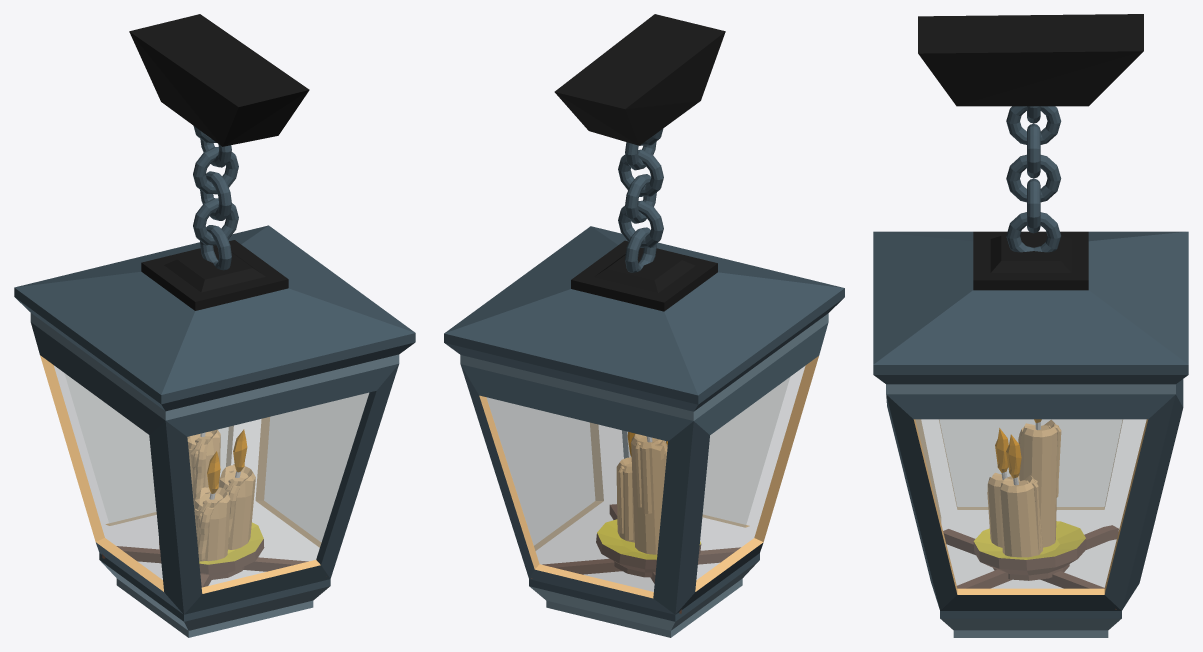
Rendered from Candle Lantern.glb.
3 renders of one model, left to right at view 1: azimuth 30°, elevation 25°; view 2: azimuth 150°, elevation 25°; view 3: azimuth 270°, elevation 25°, orthographic. The views are drawn at different scales.
Parts seen in each view (by area): view 1: group142796565, group820950536, group1893448725, group1803883772, group304027375, group1535184523, group666346096, group1505957573, group1912993665, group394345910, group368409847, group20059742; view 2: group142796565, group820950536, group1893448725, group20059742, group1535184523, group2023262785, group1505957573, group1912993665, group394345910, group368409847, group1803883772, group454493926 (+1 smaller); view 3: group142796565, group820950536, group1893448725, group1535184523, group20059742, group1803883772, group368409847, group394345910, group1417286851, group666346096, group2023262785, group304027375 (+3 smaller).
Part boxes in pixels (bbox=[...]): group142796565: bbox=[14, 225, 415, 637]; group820950536: bbox=[129, 14, 309, 146]; group1893448725: bbox=[141, 240, 288, 310]; group1803883772: bbox=[219, 465, 255, 549]; group304027375: bbox=[194, 487, 230, 561]; group1535184523: bbox=[159, 522, 264, 579]; group666346096: bbox=[102, 546, 326, 576]; group1505957573: bbox=[193, 198, 238, 245]; group1912993665: bbox=[193, 147, 238, 194]; group394345910: bbox=[200, 225, 231, 270]; group368409847: bbox=[200, 171, 231, 220]; group20059742: bbox=[187, 430, 220, 507]; group142796565: bbox=[444, 226, 844, 637]; group820950536: bbox=[554, 14, 725, 145]; group1893448725: bbox=[571, 240, 717, 311]; group20059742: bbox=[631, 434, 664, 554]; group1535184523: bbox=[596, 519, 701, 577]; group2023262785: bbox=[531, 547, 740, 578]; group1505957573: bbox=[618, 200, 663, 247]; group1912993665: bbox=[618, 149, 663, 196]; group394345910: bbox=[625, 227, 656, 272]; group368409847: bbox=[625, 174, 656, 223]; group1803883772: bbox=[616, 457, 634, 542]; group454493926: bbox=[641, 448, 651, 513]; group142796565: bbox=[873, 231, 1188, 637]; group820950536: bbox=[918, 14, 1143, 106]; group1893448725: bbox=[973, 231, 1088, 290]; group1535184523: bbox=[973, 521, 1086, 580]; group20059742: bbox=[1019, 420, 1057, 547]; group1803883772: bbox=[999, 475, 1040, 557]; group368409847: bbox=[1006, 154, 1061, 202]; group394345910: bbox=[1006, 212, 1060, 252]; group1417286851: bbox=[1006, 106, 1061, 144]; group666346096: bbox=[957, 525, 1118, 588]; group2023262785: bbox=[943, 529, 1116, 609]; group304027375: bbox=[987, 474, 1019, 547].
Bounding box in the file's own units: 0.573 × 1.17 × 0.573.
